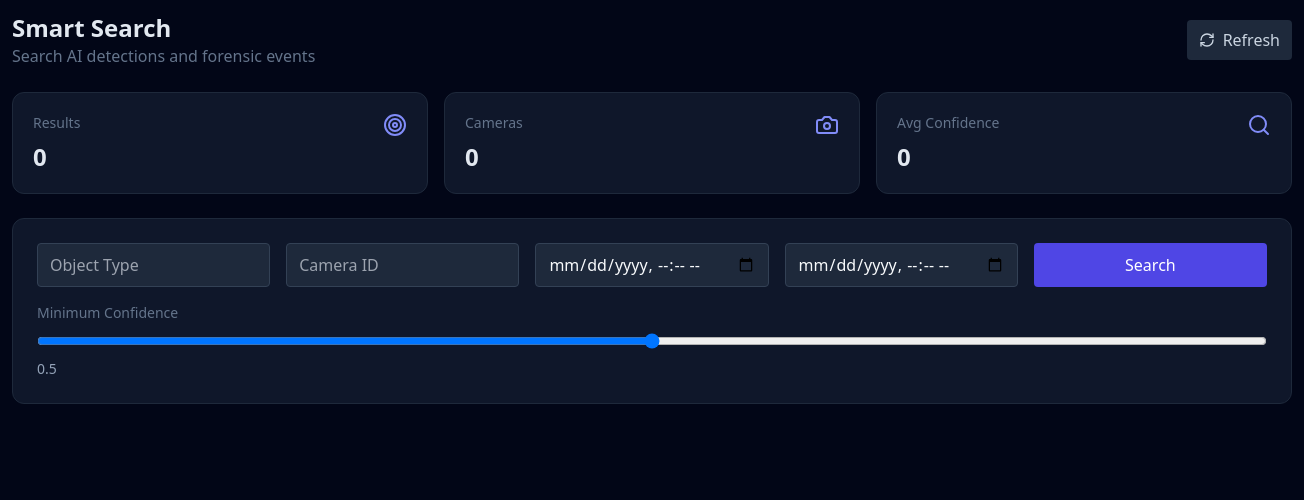
Test: SearchPage › shows loading spinner during search
This screenshot has width=1304, height=500.
Click the button "Search".
click(1150, 265)  # box top-left (1034, 243), bottom-right (1267, 287)
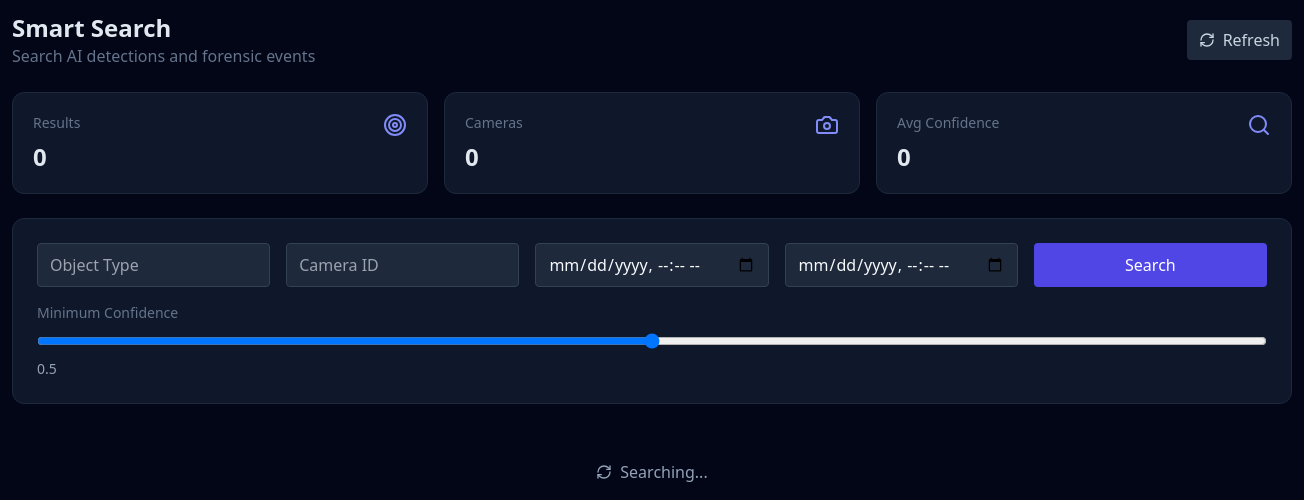
Expected: the text "Searching..." is shown, top-left (596, 461), bottom-right (708, 483)
